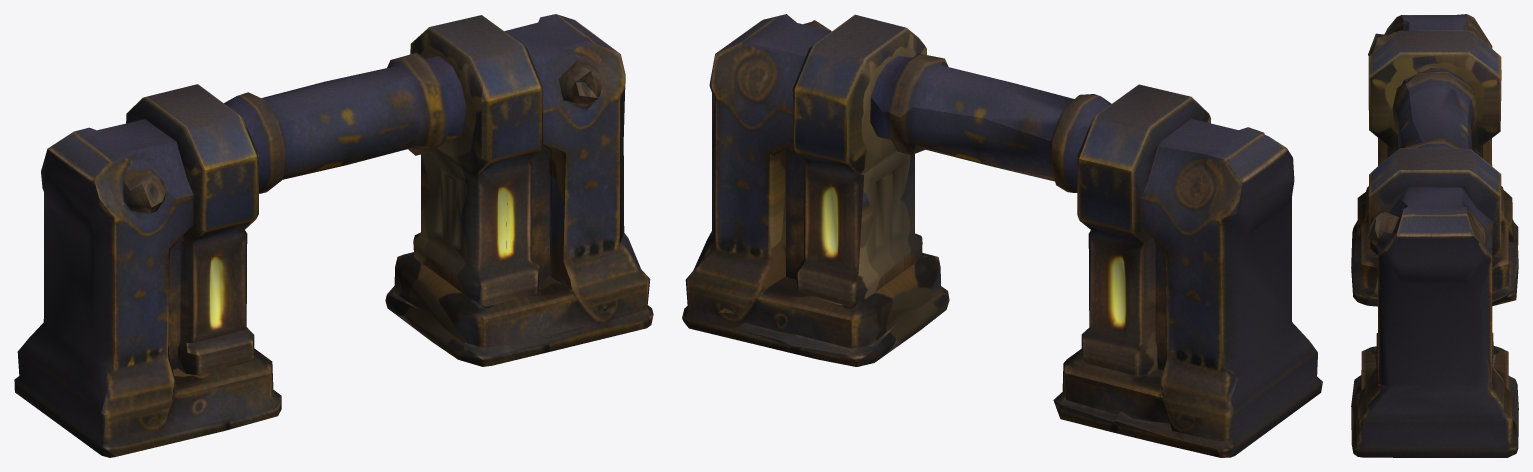
The model's file is Obs1.fbx.
3 renders of one model, left to right at view 1: azimuth 30°, elevation 25°; view 2: azimuth 150°, elevation 25°; view 3: azimuth 270°, elevation 25°, orthographic. The views are drawn at different scales.
Visible parts, largest first — view 1: tmpjtsyxx4b.ply; view 2: tmpjtsyxx4b.ply; view 3: tmpjtsyxx4b.ply.
Boxes of the visible parts, x1,y1,x2,y2 form: tmpjtsyxx4b.ply: (14,14,653,457); tmpjtsyxx4b.ply: (682,14,1322,457); tmpjtsyxx4b.ply: (1351,14,1518,457).
Bounding box in the file's own units: 199 × 98.75 × 61.51.
Materials: 1 (1 with a texture image).
